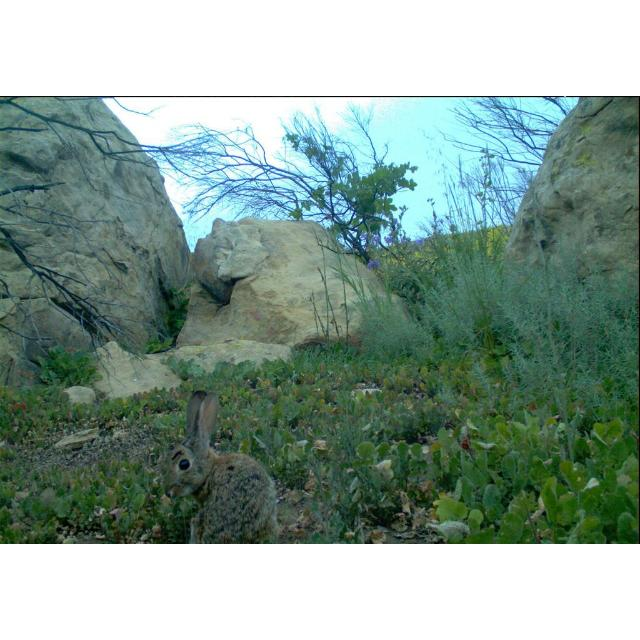animals: (158, 388, 282, 544)
